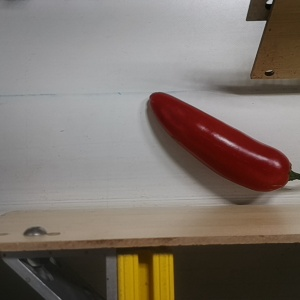Cut Point: (272, 148, 300, 194)
